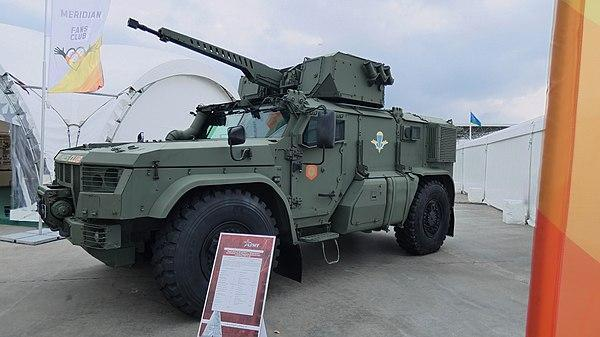armored_car: (44, 48, 516, 331)
